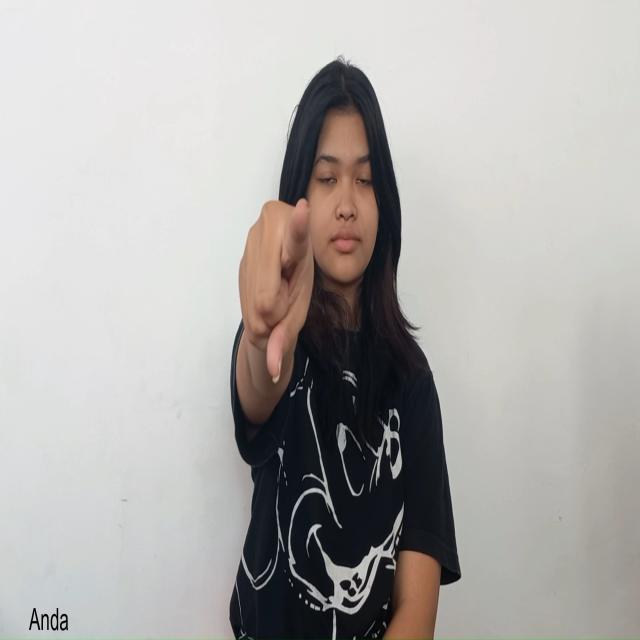Anda -BISINDO-: (237, 196, 316, 387)
